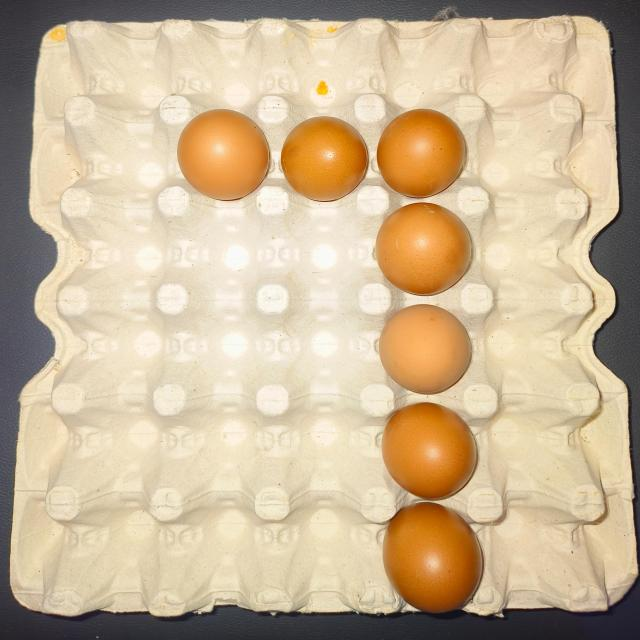Eggs: (376, 505, 487, 613), (372, 302, 481, 398), (288, 102, 377, 218), (376, 405, 486, 497), (370, 208, 484, 292), (169, 107, 276, 195), (383, 100, 469, 194)
